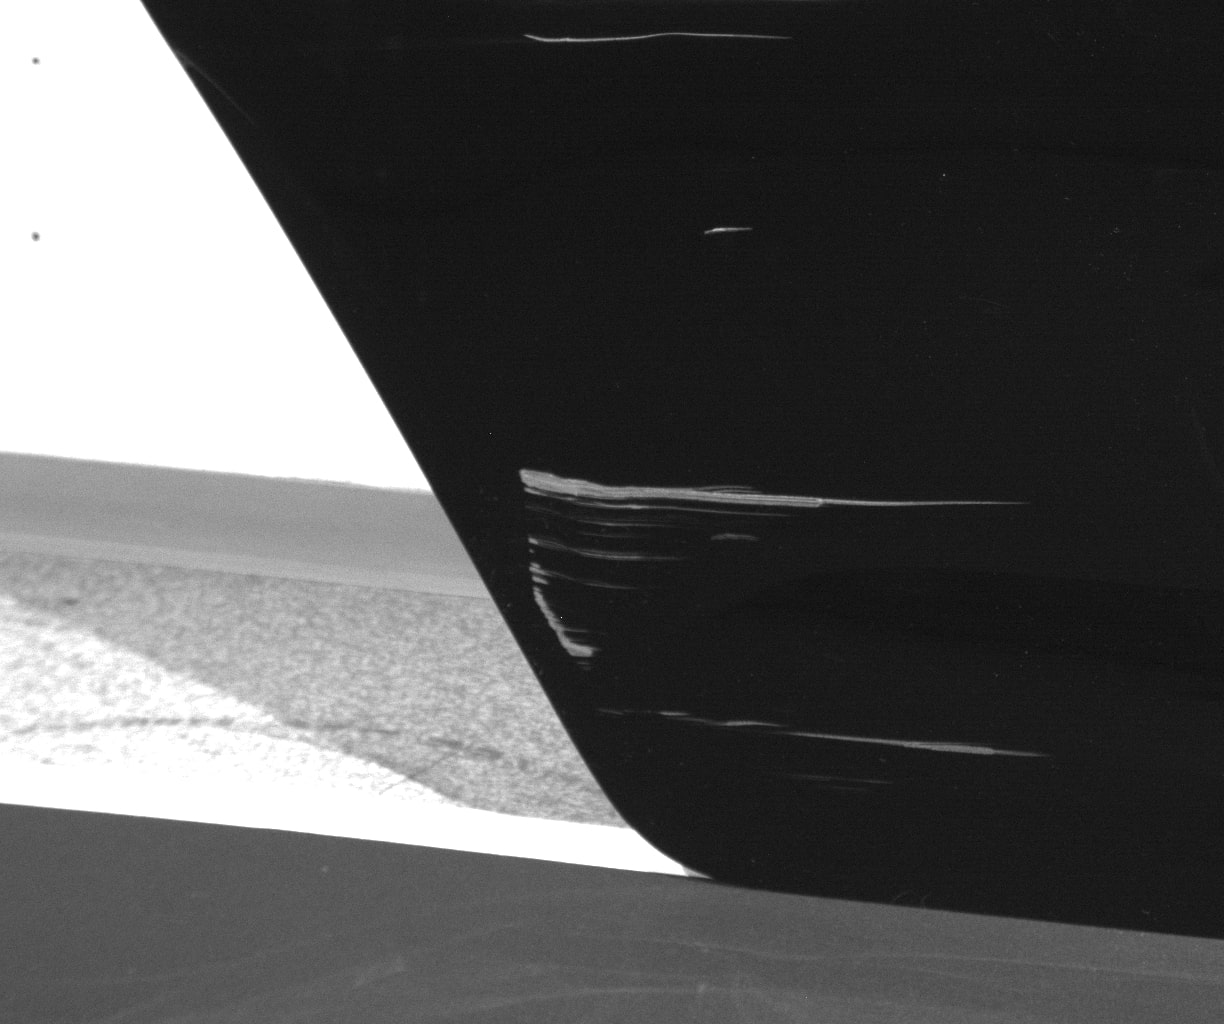scratch: (519, 467, 1029, 518), (659, 706, 1044, 759), (525, 535, 682, 659), (523, 32, 792, 43), (801, 774, 891, 785), (702, 225, 754, 236), (711, 533, 759, 542)
